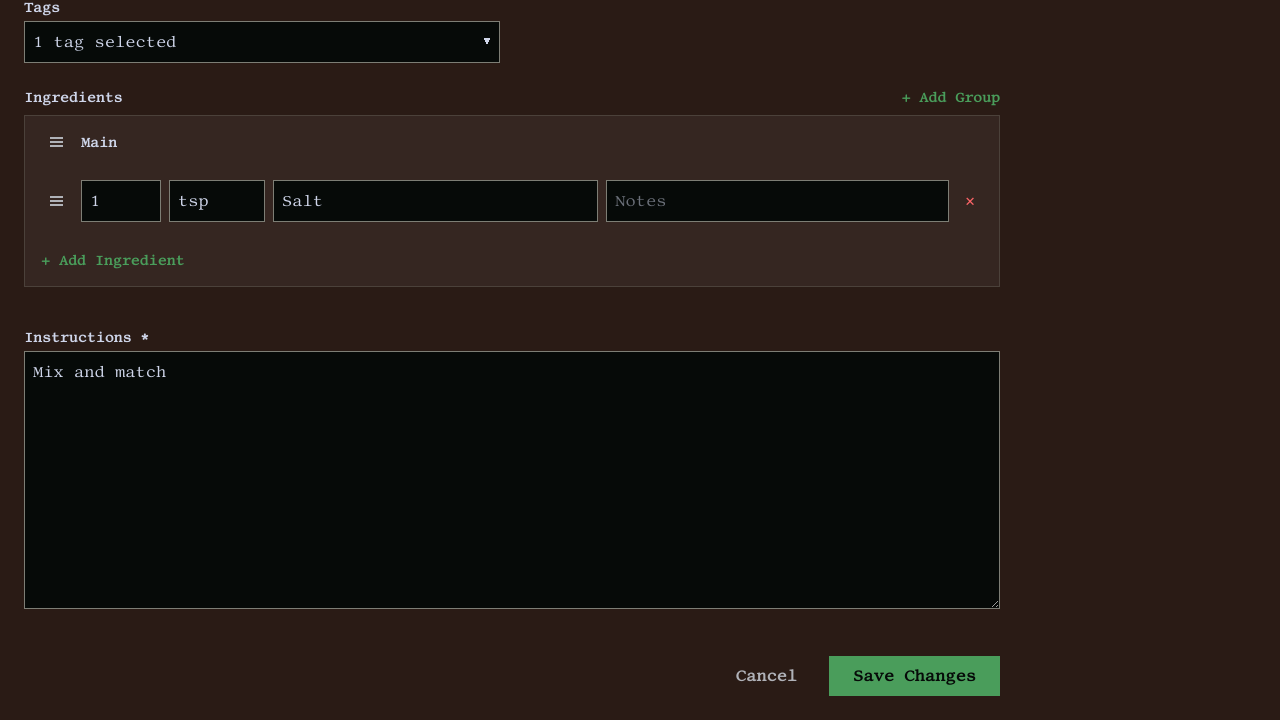
Test: EditRecipe › falls back to a generic message when the server sends none
(page scrolled)
Click the button "Save Changes" at (915,676), box [829,656,1000,696]
(page scrolled)
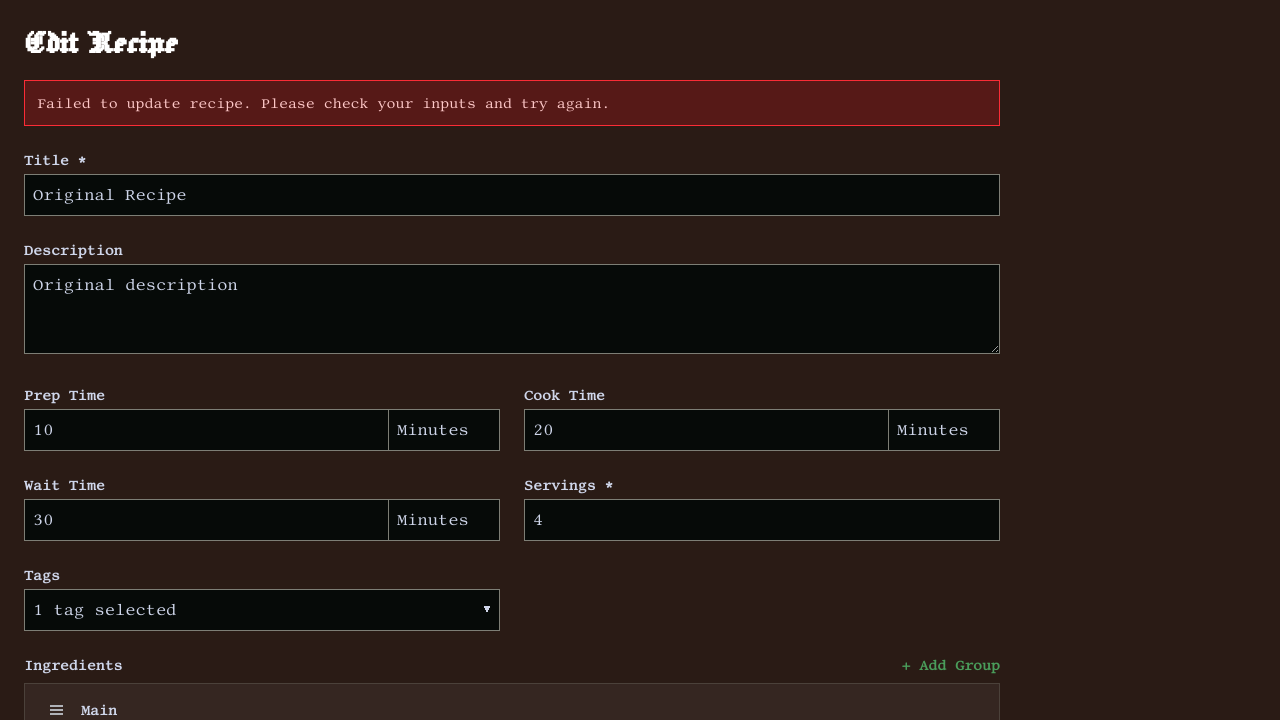
Check: the text "Failed to update recipe" is shown, box [37,95,610,111]
